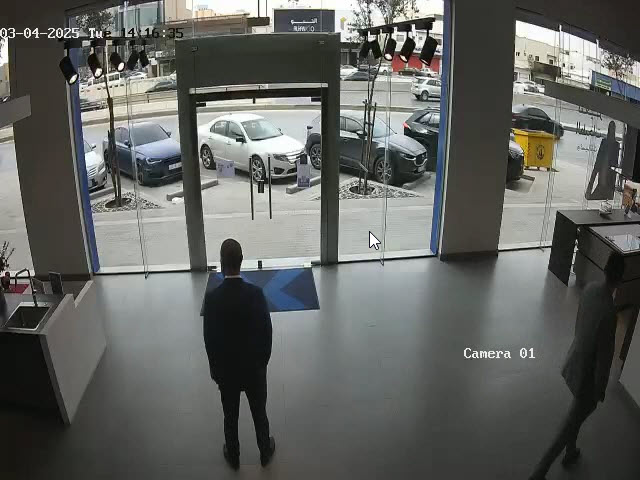employee: (529, 238, 635, 475)
male: (200, 238, 276, 470)
